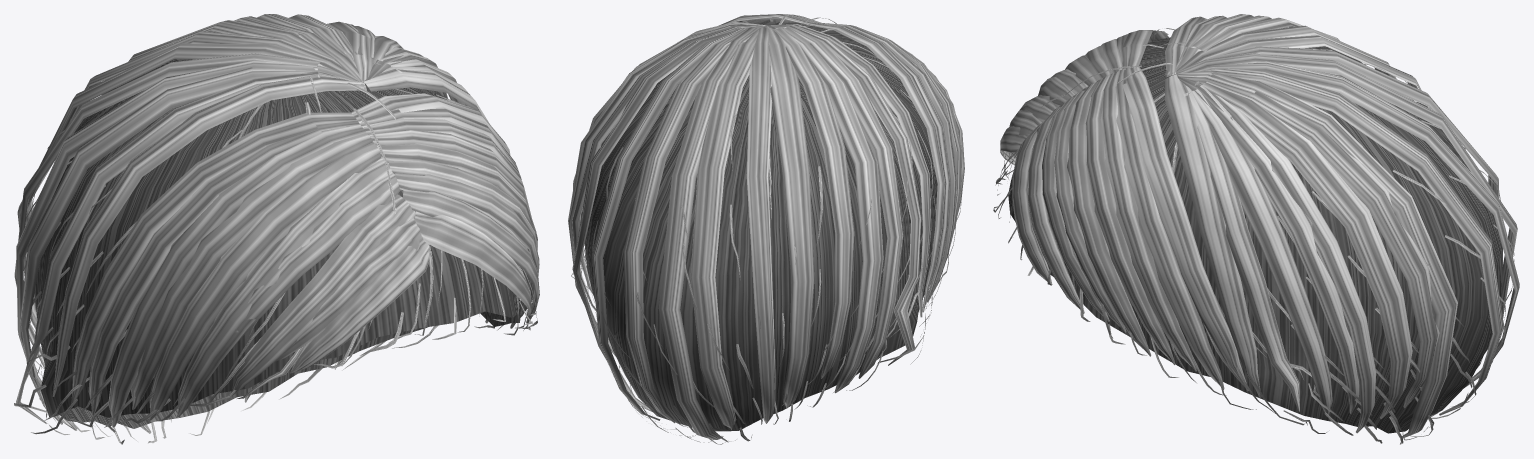
The model's file is unified_f_pixie.glb.
The picture shows the model from 3 angles, left to right: view 1: azimuth 30°, elevation 25°; view 2: azimuth 150°, elevation 25°; view 3: azimuth 270°, elevation 25°; orthographic projection. The views are drawn at different scales.
Visible parts, largest first — view 1: Hair_directional_locks, Hair_scalp, Hair_layered_strands; view 2: Hair_directional_locks, Hair_scalp, Hair_layered_strands; view 3: Hair_directional_locks, Hair_scalp, Hair_layered_strands.
Boxes of the visible parts, x1=… form: Hair_directional_locks: x1=14, y1=14, x2=539, y2=433; Hair_scalp: x1=34, y1=59, x2=520, y2=428; Hair_layered_strands: x1=14, y1=40, x2=537, y2=444; Hair_directional_locks: x1=568, y1=14, x2=964, y2=439; Hair_scalp: x1=584, y1=24, x2=937, y2=431; Hair_layered_strands: x1=571, y1=14, x2=961, y2=444; Hair_directional_locks: x1=1000, y1=14, x2=1519, y2=438; Hair_scalp: x1=1008, y1=37, x2=1502, y2=433; Hair_layered_strands: x1=993, y1=28, x2=1514, y2=444.
Size of the model in its own units: 0.1067 by 0.1032 by 0.1251.
2 materials, 2 textured.
